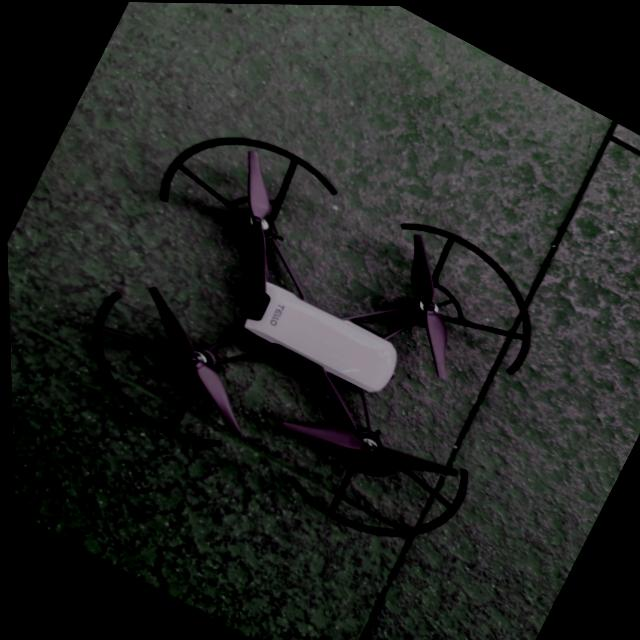drone: (82, 130, 536, 542)
